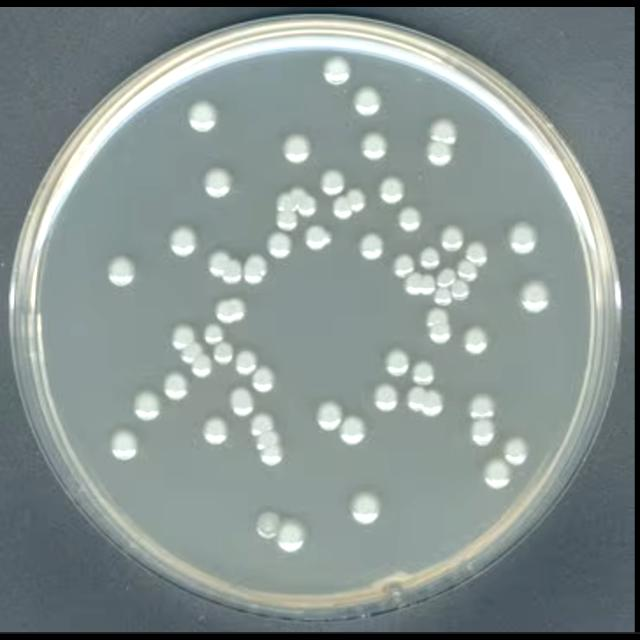colony: (428, 262, 484, 316), (326, 182, 374, 222), (501, 212, 537, 260), (470, 394, 498, 452), (380, 244, 418, 286), (212, 288, 250, 330), (200, 166, 238, 204), (352, 486, 382, 532), (340, 415, 378, 451), (419, 139, 458, 171), (264, 226, 298, 262), (428, 110, 462, 146), (410, 240, 442, 276), (108, 256, 140, 290), (402, 270, 436, 302), (258, 440, 292, 472), (314, 398, 344, 434), (323, 53, 351, 91), (282, 128, 312, 162), (435, 220, 463, 256), (180, 348, 213, 378), (361, 128, 387, 160), (319, 168, 346, 196), (132, 393, 156, 421), (170, 329, 192, 346)
